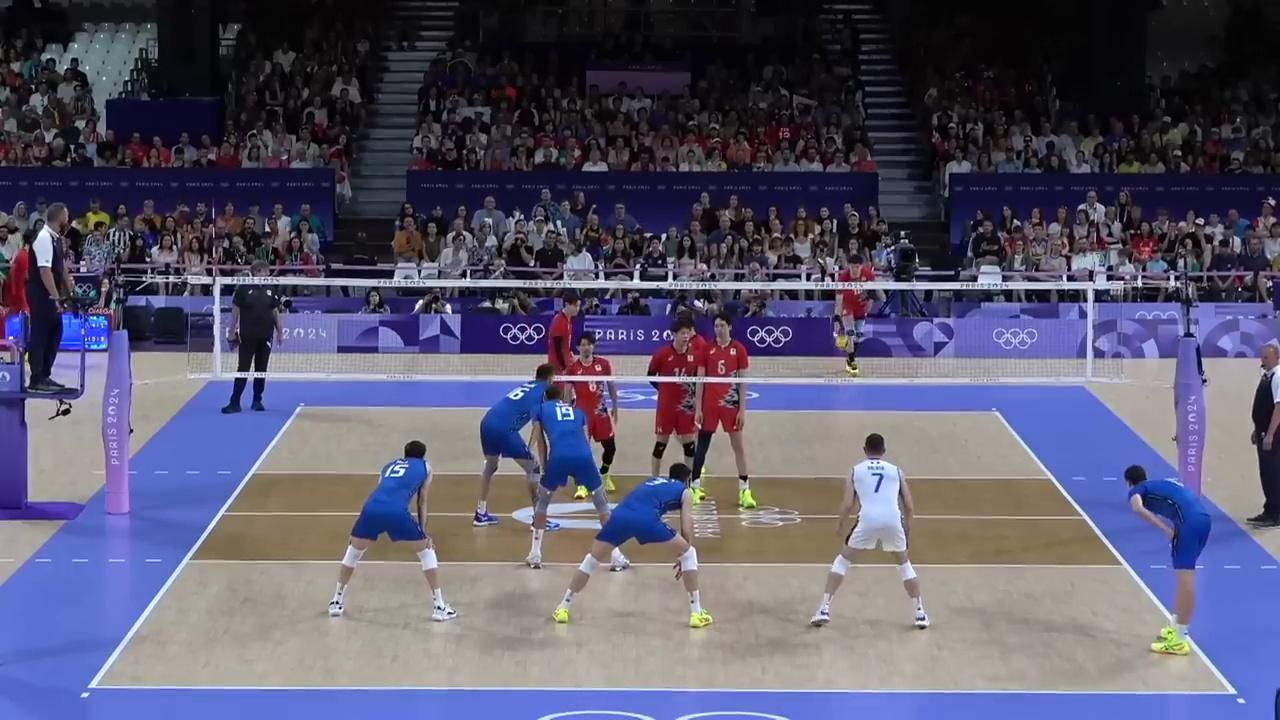ball: (835, 336, 850, 350)
